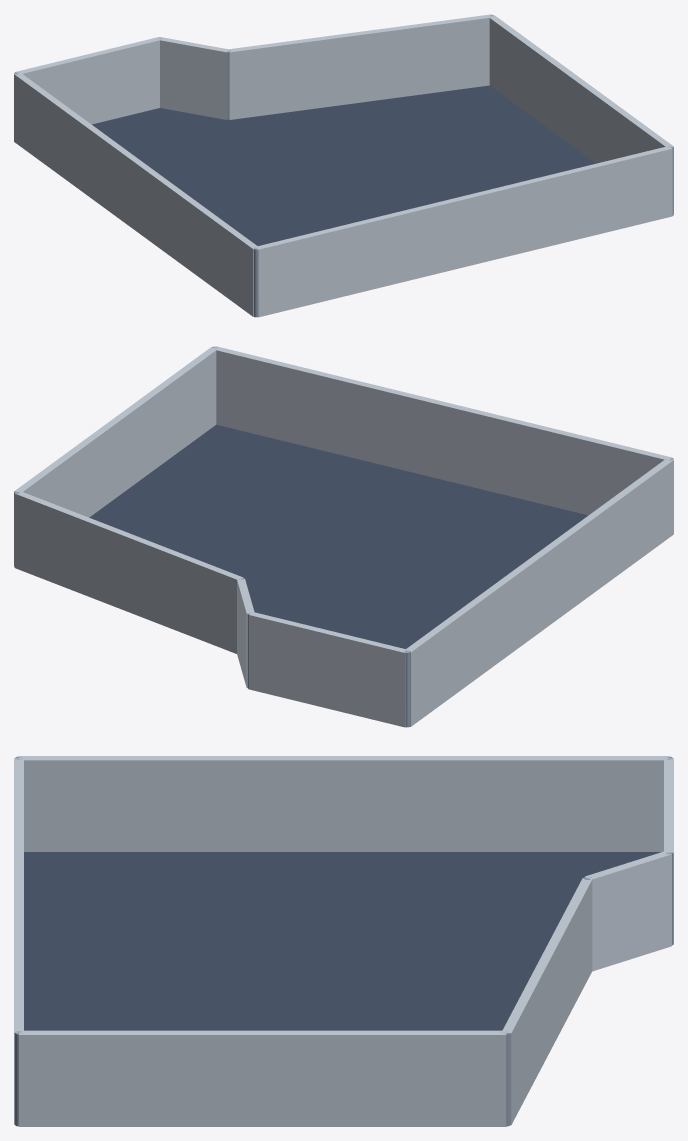
The picture shows the model from 3 angles, top to bottom: view 1: azimuth 30°, elevation 25°; view 2: azimuth 150°, elevation 25°; view 3: azimuth 270°, elevation 25°; orthographic projection. The views are drawn at different scales.
Visible parts, largest first — view 1: room-content; view 2: room-content; view 3: room-content.
Boxes of the visible parts, box(x1,y1,x2,y2) form: room-content: box(14, 14, 673, 317); room-content: box(14, 346, 673, 727); room-content: box(14, 756, 673, 1126).
Bounding box in the file's own units: 32.5 × 5 × 32.5.
